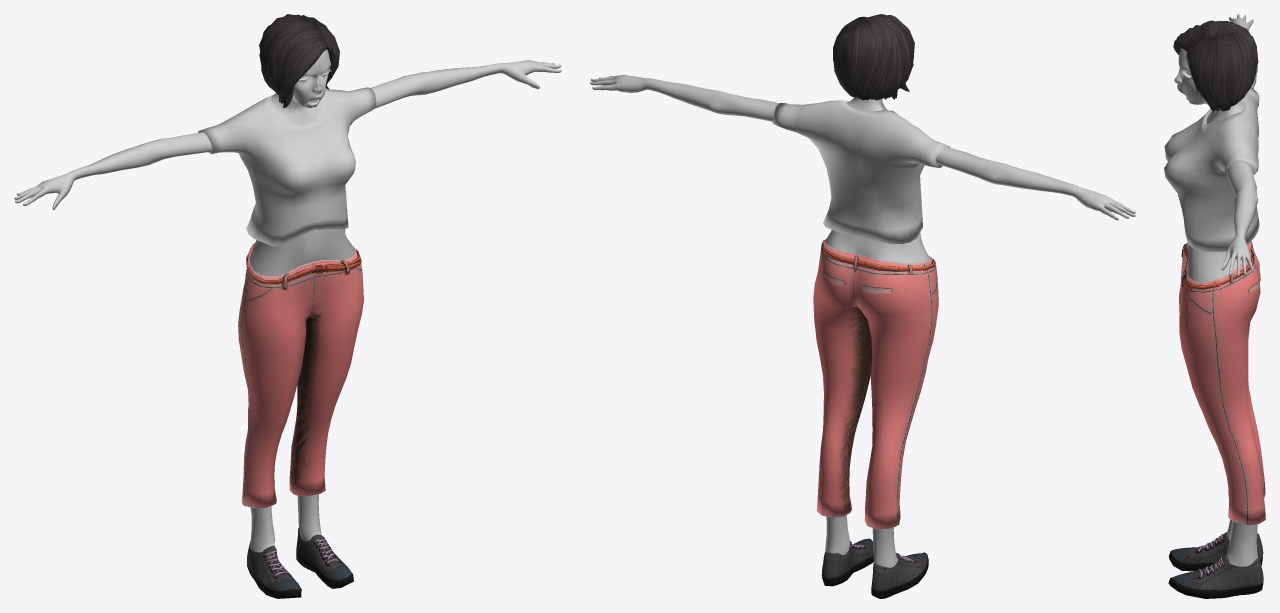
File: zombiegirl_001.obj
The picture shows the model from 3 angles, left to right: view 1: azimuth 30°, elevation 25°; view 2: azimuth 150°, elevation 25°; view 3: azimuth 270°, elevation 25°; orthographic projection.
Parts seen in each view (by area): view 1: Bottoms, Tops, Body, Hair, Shoes; view 2: Bottoms, Tops, Body, Hair, Shoes; view 3: Bottoms, Tops, Body, Hair, Shoes.
Boxes of the visible parts, bbox=[...] form: Bottoms: bbox=[238, 242, 363, 508]; Tops: bbox=[198, 87, 376, 246]; Body: bbox=[14, 49, 561, 552]; Hair: bbox=[259, 14, 339, 108]; Shoes: bbox=[247, 527, 353, 598]; Bottoms: bbox=[813, 239, 938, 529]; Tops: bbox=[772, 100, 950, 243]; Body: bbox=[590, 74, 1135, 567]; Hair: bbox=[833, 14, 914, 100]; Shoes: bbox=[821, 538, 928, 598]; Bottoms: bbox=[1179, 241, 1265, 525]; Tops: bbox=[1164, 87, 1259, 251]; Body: bbox=[1174, 14, 1258, 566]; Hair: bbox=[1173, 20, 1258, 112]; Shoes: bbox=[1168, 532, 1263, 598].
Bounding box in the file's own units: 179 × 176 × 29.26.
